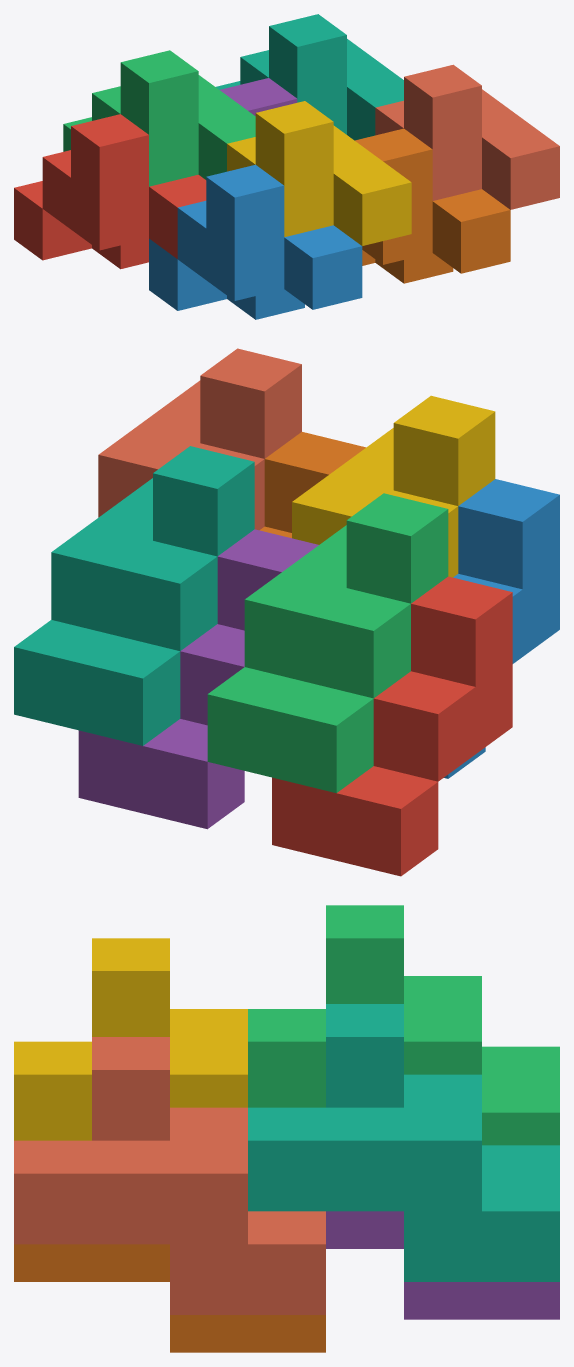
File: tiling.obj
3 renders of one model, top to bottom at view 1: azimuth 30°, elevation 25°; view 2: azimuth 150°, elevation 25°; view 3: azimuth 270°, elevation 25°, orthographic. The views are drawn at different scales.
Visible parts, largest first — view 1: copy_1_domain_2, copy_1_domain_1, copy_1_domain_4, copy_1_domain_8, copy_1_domain_3, copy_1_domain_6, copy_1_domain_7, copy_1_domain_5; view 2: copy_1_domain_3, copy_1_domain_7, copy_1_domain_1, copy_1_domain_5, copy_1_domain_8, copy_1_domain_4, copy_1_domain_2, copy_1_domain_6; view 3: copy_1_domain_7, copy_1_domain_8, copy_1_domain_3, copy_1_domain_4, copy_1_domain_6, copy_1_domain_5.
Boxes of the visible parts, x1=… form: copy_1_domain_2: x1=149, y1=164, x2=362, y2=319; copy_1_domain_1: x1=14, y1=114, x2=206, y2=269; copy_1_domain_4: x1=227, y1=101, x2=411, y2=245; copy_1_domain_8: x1=375, y1=64, x2=559, y2=209; copy_1_domain_3: x1=63, y1=50, x2=255, y2=186; copy_1_domain_6: x1=355, y1=128, x2=510, y2=283; copy_1_domain_7: x1=216, y1=14, x2=403, y2=140; copy_1_domain_5: x1=220, y1=78, x2=297, y2=115; copy_1_domain_3: x1=207, y1=493, x2=448, y2=793; copy_1_domain_7: x1=14, y1=446, x2=254, y2=745; copy_1_domain_1: x1=272, y1=576, x2=512, y2=876; copy_1_domain_5: x1=78, y1=529, x2=318, y2=829; copy_1_domain_8: x1=98, y1=348, x2=301, y2=530; copy_1_domain_4: x1=292, y1=395, x2=495, y2=577; copy_1_domain_2: x1=444, y1=479, x2=559, y2=778; copy_1_domain_6: x1=260, y1=432, x2=365, y2=538; copy_1_domain_7: x1=248, y1=1004, x2=559, y2=1281; copy_1_domain_8: x1=14, y1=1037, x2=325, y2=1314; copy_1_domain_3: x1=248, y1=905, x2=559, y2=1145; copy_1_domain_4: x1=14, y1=938, x2=247, y2=1140; copy_1_domain_6: x1=14, y1=1244, x2=325, y2=1352; copy_1_domain_5: x1=326, y1=1211, x2=559, y2=1319.
Bounding box in the file's own units: 7 × 4 × 7.
